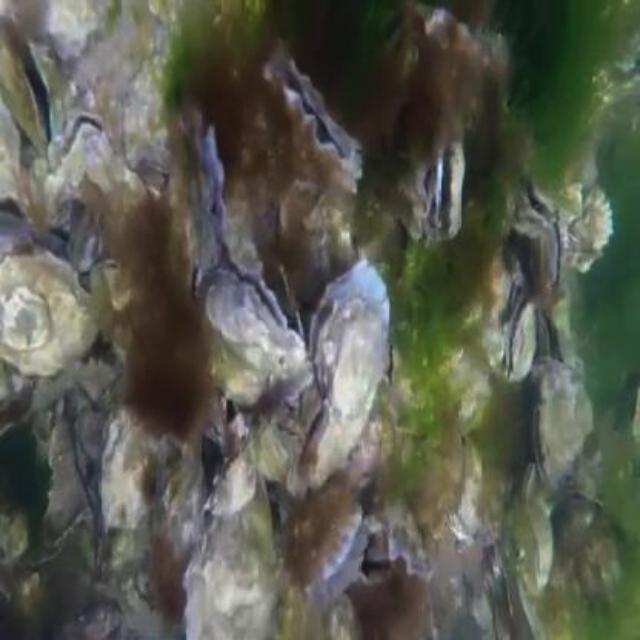Oyster-Closed: (184, 456, 277, 638), (0, 252, 101, 373), (99, 404, 187, 537), (155, 450, 211, 575), (523, 461, 555, 590), (566, 193, 613, 270), (90, 258, 132, 342), (66, 201, 104, 277), (364, 546, 395, 578), (188, 266, 203, 299)
Oyster-Open: (303, 267, 392, 478), (202, 270, 305, 400), (264, 55, 366, 181), (283, 487, 370, 604), (0, 15, 58, 154), (531, 370, 593, 485), (511, 180, 565, 292), (50, 113, 121, 192), (183, 120, 226, 240), (369, 508, 432, 580), (431, 137, 465, 239), (504, 296, 538, 383), (539, 305, 568, 362)
